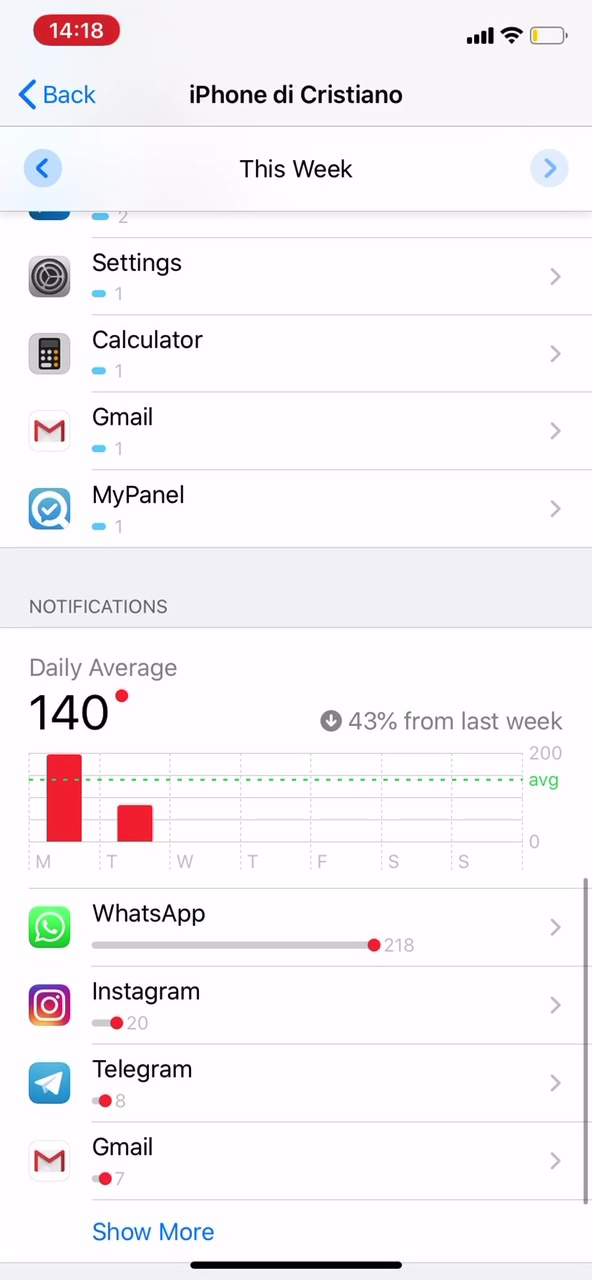not_app: (22, 892, 461, 964), (25, 1044, 307, 1125), (22, 969, 282, 1041), (28, 1128, 259, 1199)
not_over: (6, 578, 248, 739)
pick_app: (9, 310, 293, 389), (9, 233, 289, 313), (12, 392, 298, 469), (12, 474, 272, 544)
week: (227, 152, 364, 193)
